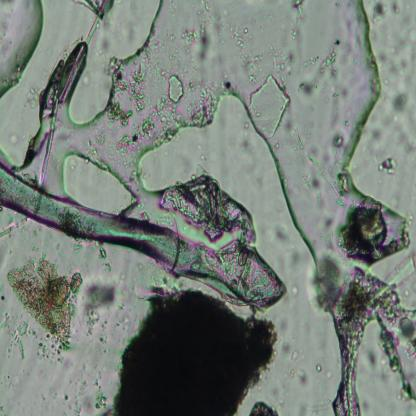Air bubble: (134, 82, 334, 269), (318, 0, 390, 214), (59, 148, 138, 216), (0, 1, 49, 99)
Background material: (110, 290, 299, 416), (40, 1, 113, 187), (317, 249, 416, 349), (7, 256, 83, 366), (163, 166, 254, 253), (342, 198, 415, 264), (368, 322, 416, 407), (116, 96, 176, 154), (246, 69, 294, 139), (217, 14, 264, 78), (129, 257, 187, 297), (307, 151, 345, 209), (112, 57, 148, 115), (81, 280, 116, 337), (0, 314, 31, 360), (179, 27, 210, 68), (300, 48, 338, 79), (190, 86, 222, 121), (37, 331, 65, 364), (146, 33, 167, 77), (282, 116, 307, 152), (103, 102, 137, 127), (300, 175, 324, 209), (270, 43, 294, 76), (0, 216, 34, 239), (168, 72, 188, 109), (333, 130, 353, 166), (72, 372, 89, 414), (23, 80, 46, 108), (319, 213, 336, 250), (299, 398, 332, 416), (245, 400, 282, 416), (395, 130, 416, 154), (376, 154, 396, 176), (290, 0, 308, 24), (298, 80, 318, 100), (372, 0, 388, 24), (390, 92, 408, 113), (341, 36, 354, 65), (92, 389, 108, 412), (102, 56, 120, 76), (115, 301, 128, 328), (330, 99, 341, 130), (272, 225, 290, 243), (99, 318, 110, 346), (194, 2, 211, 20), (289, 249, 301, 274), (387, 58, 401, 76), (85, 244, 97, 264), (99, 36, 111, 56), (404, 27, 416, 47), (294, 366, 306, 385), (389, 40, 404, 55), (342, 13, 354, 31), (9, 134, 23, 149), (94, 370, 104, 389), (80, 72, 94, 85), (98, 243, 108, 261), (72, 238, 83, 254), (140, 210, 152, 224), (370, 128, 382, 142), (290, 348, 302, 362), (280, 316, 289, 333), (392, 1, 402, 16), (340, 86, 349, 102), (0, 286, 8, 302), (410, 46, 416, 67), (314, 360, 322, 375), (355, 31, 361, 50), (281, 342, 290, 353), (378, 52, 386, 64), (167, 33, 177, 42), (0, 402, 6, 416), (292, 286, 300, 296), (105, 262, 113, 272), (274, 139, 280, 151), (343, 116, 349, 128), (371, 30, 378, 40), (200, 152, 208, 160), (402, 59, 409, 68), (31, 245, 40, 252), (332, 91, 340, 98), (294, 29, 298, 40), (334, 39, 340, 45), (393, 115, 398, 122), (42, 393, 46, 401), (334, 2, 340, 7), (385, 78, 389, 84), (65, 396, 69, 402)
Cellulose filter fibre: (331, 269, 389, 416)
Microfibre: (0, 161, 285, 311)
